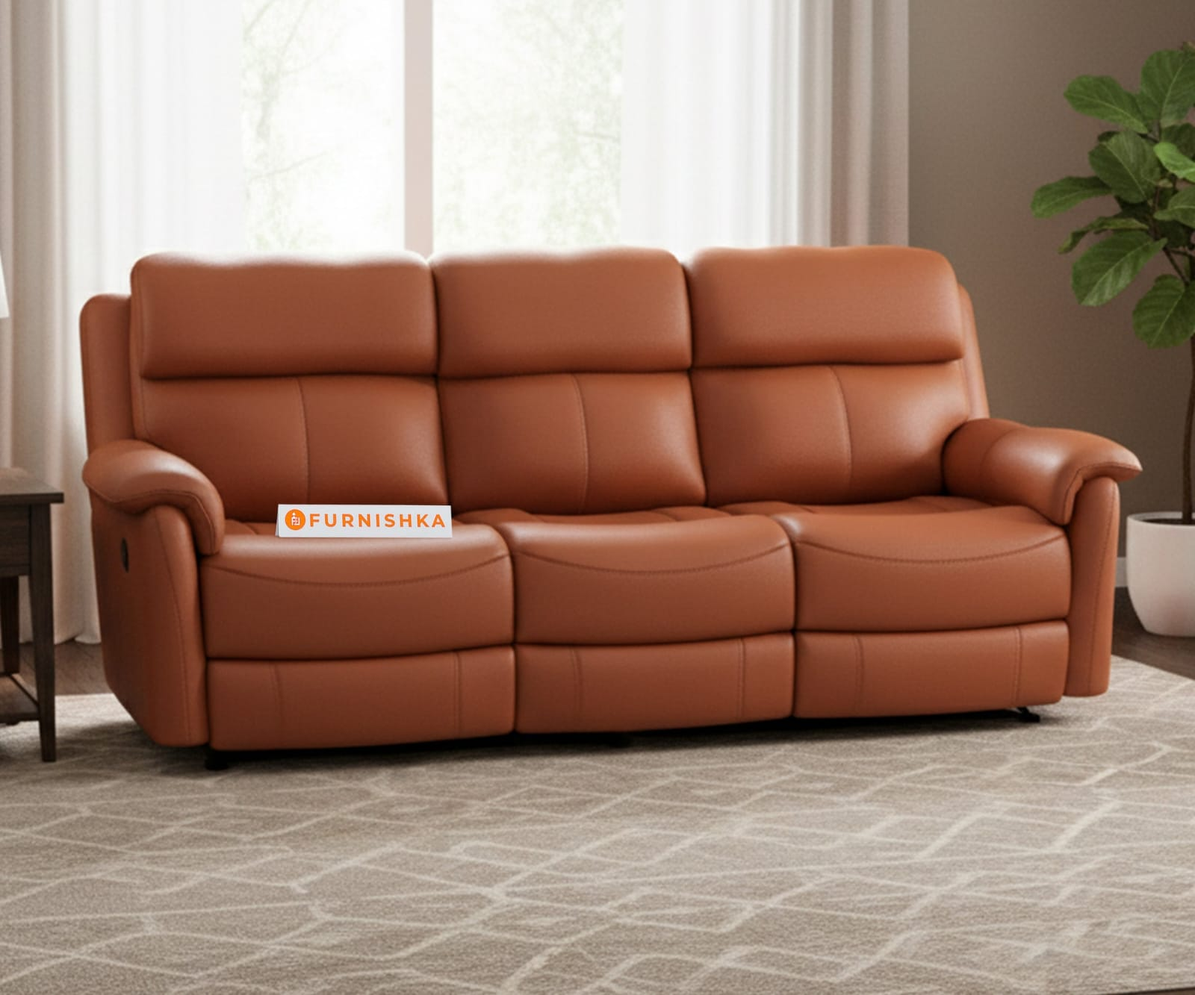3seatersofa: (81, 247, 1139, 752)
backrest: (128, 251, 998, 523)
base: (209, 620, 1068, 749)
leftarmrest: (945, 418, 1140, 695)
rightarmrest: (81, 295, 224, 745)
seat: (200, 496, 1070, 661)
